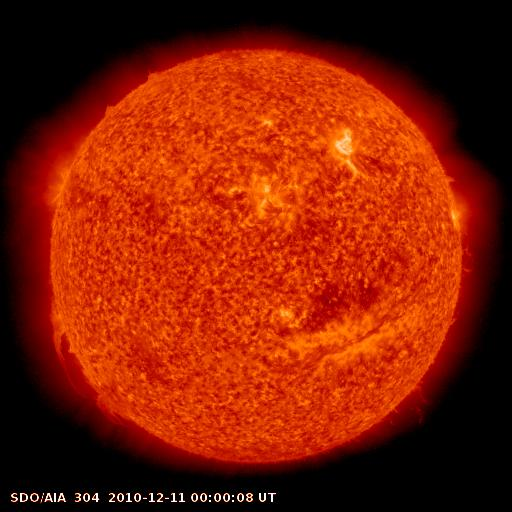prominence: (41, 297, 136, 432), (386, 375, 449, 438), (131, 58, 175, 93), (438, 158, 473, 195), (96, 95, 120, 123)
